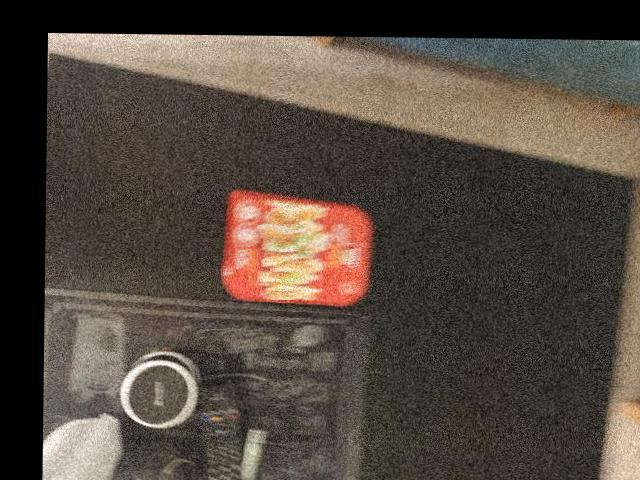cheese: (224, 186, 374, 307)
